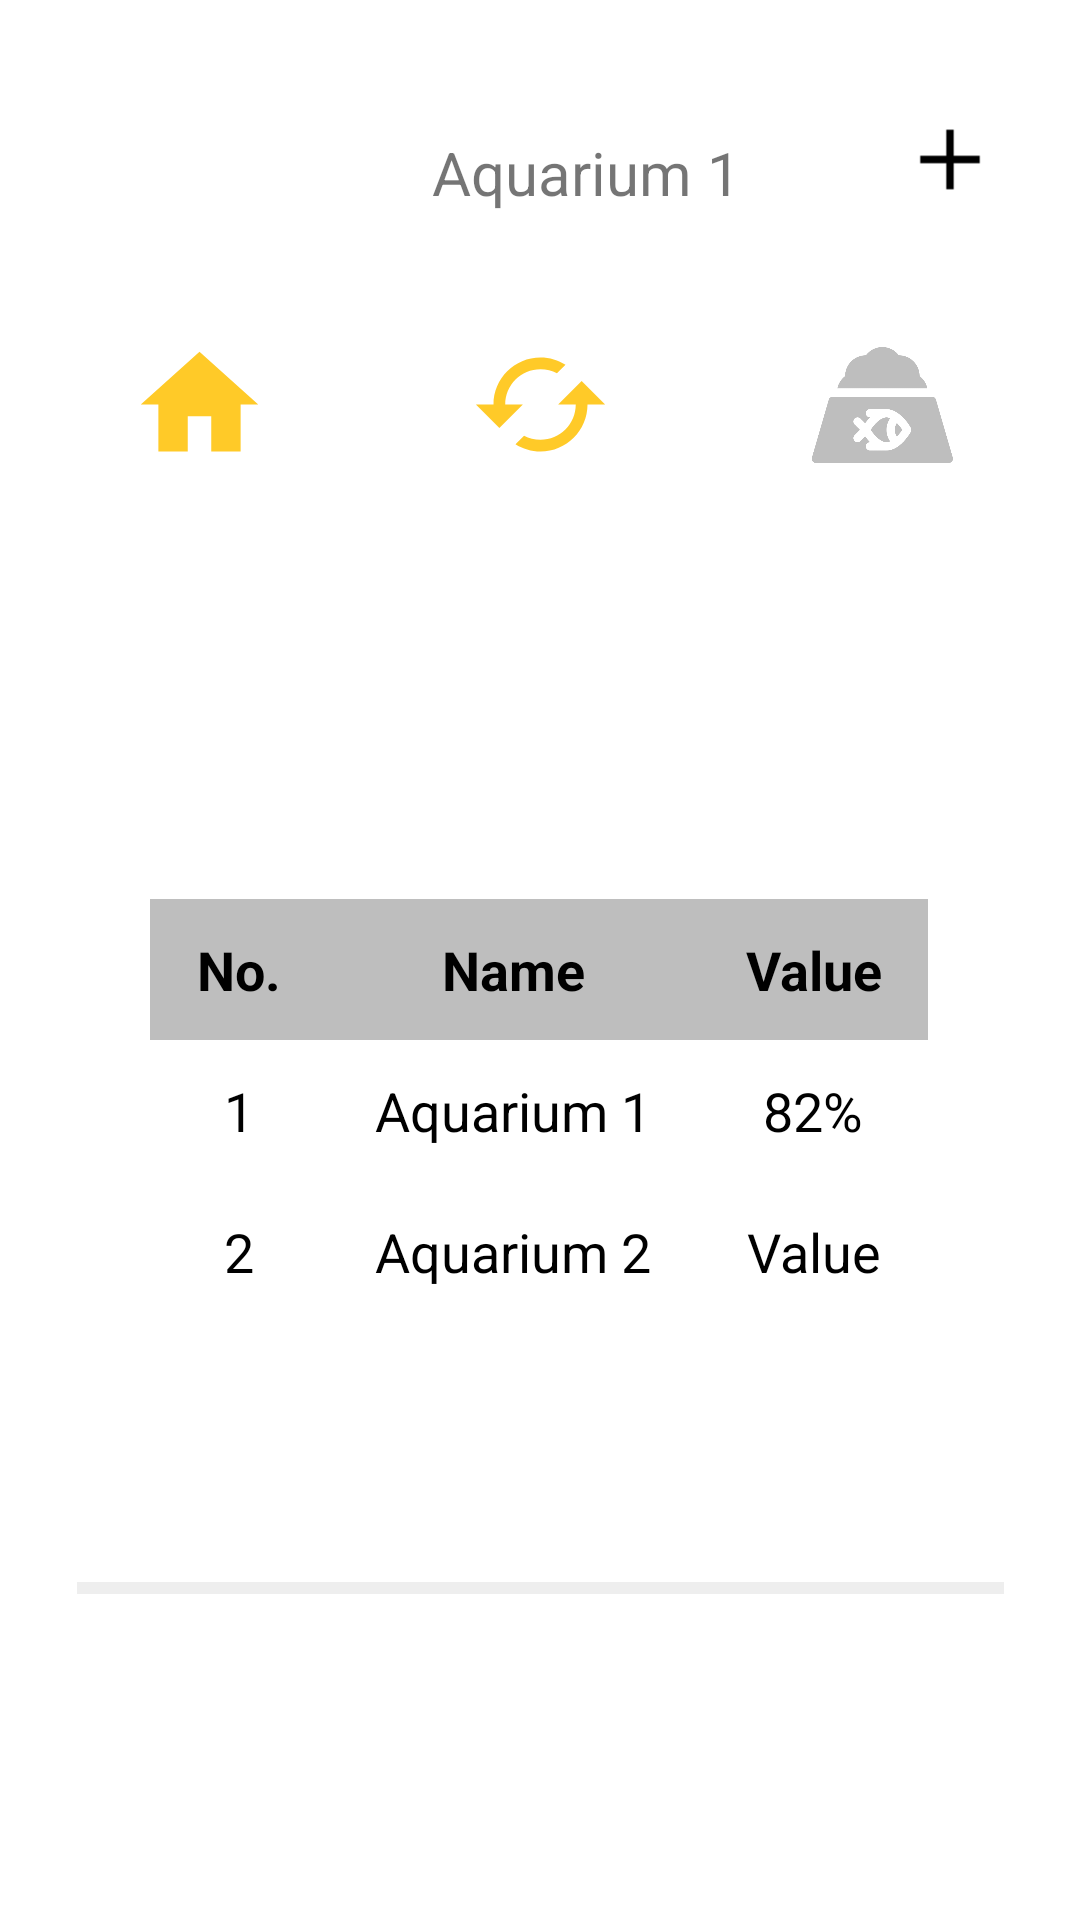

Point at icon controls on the screen. Image size 1080 x 1920, points as (x=x, y=y).
cached: (x=540, y=404)
feeding: (x=882, y=405)
home: (x=199, y=402)
plus: (x=950, y=159)
